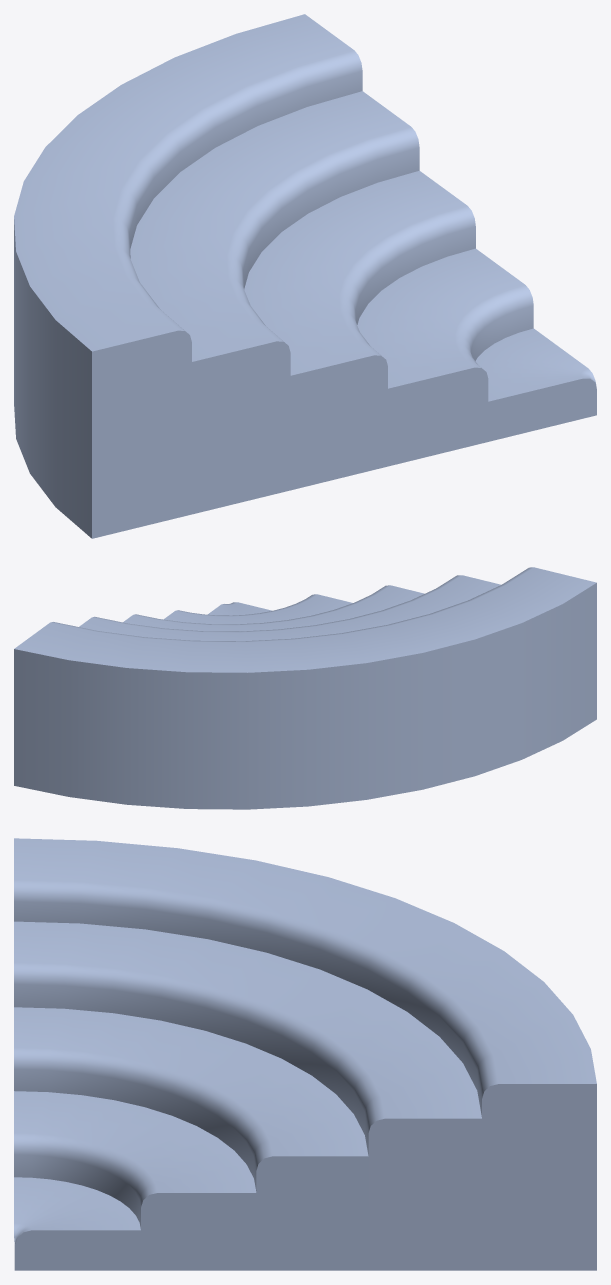
File: Tribune Corner.fbx
3 renders of one model, top to bottom at view 1: azimuth 30°, elevation 25°; view 2: azimuth 150°, elevation 25°; view 3: azimuth 270°, elevation 25°, orthographic. The views are drawn at different scales.
Parts seen in each view (by area): view 1: Tribune Corner.001, Tribune Corner; view 2: Tribune Corner.001, Tribune Corner; view 3: Tribune Corner.001, Tribune Corner.
Boxes of the visible parts, x1=… form: Tribune Corner.001: x1=14, y1=14, x2=419, y2=538; Tribune Corner: x1=244, y1=170, x2=596, y2=490; Tribune Corner.001: x1=14, y1=567, x2=596, y2=809; Tribune Corner: x1=123, y1=585, x2=424, y2=631; Tribune Corner.001: x1=14, y1=838, x2=596, y2=1270; Tribune Corner: x1=14, y1=1007, x2=369, y2=1270.
Bounding box in the file's own units: 7.31 × 2.59 × 7.33.
